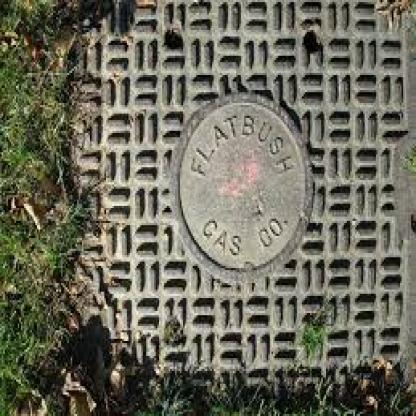closed manhole-not overflowing-: (178, 98, 307, 271)
